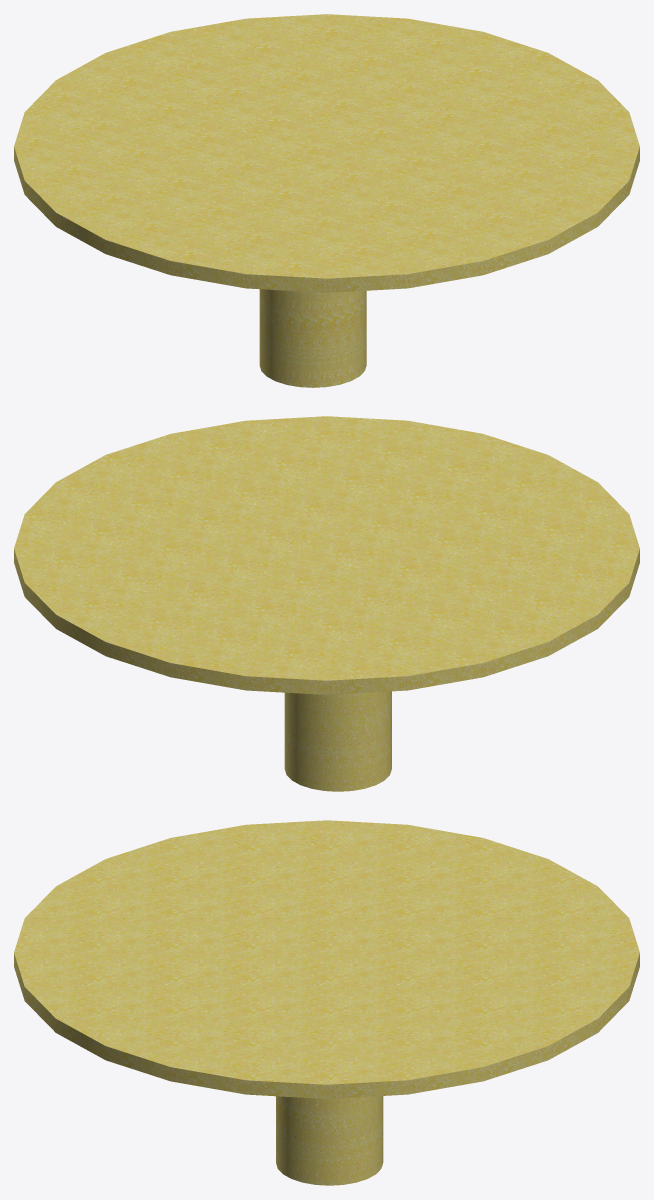
The model's file is Candyshop table.dae.
3 views of the same model, one above another, from view 1: azimuth 30°, elevation 25°; view 2: azimuth 150°, elevation 25°; view 3: azimuth 270°, elevation 25° (orthographic).
Visible parts, largest first — view 1: SketchUp_001, SketchUp; view 2: SketchUp_001, SketchUp; view 3: SketchUp_001, SketchUp.
Boxes of the visible parts, left/top/right/bottom form: SketchUp_001: left=14, top=14, right=639, bottom=292; SketchUp: left=259, top=289, right=366, bottom=387; SketchUp_001: left=14, top=416, right=639, bottom=694; SketchUp: left=284, top=691, right=391, bottom=791; SketchUp_001: left=14, top=820, right=639, bottom=1098; SketchUp: left=276, top=1096, right=383, bottom=1185.
Size of the model in its own units: 2.06 by 2.06 by 0.7854.
1 material, 1 textured.
